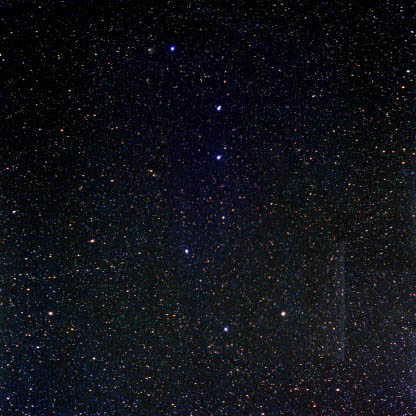Ursa Major: (273, 301, 299, 330), (214, 316, 237, 340), (210, 97, 228, 118), (210, 148, 228, 168), (214, 207, 231, 226), (178, 241, 193, 262), (165, 43, 183, 58)
